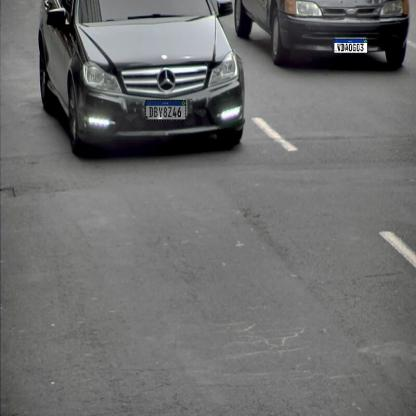PlacaM: (145, 100, 186, 121), (334, 39, 367, 53)
